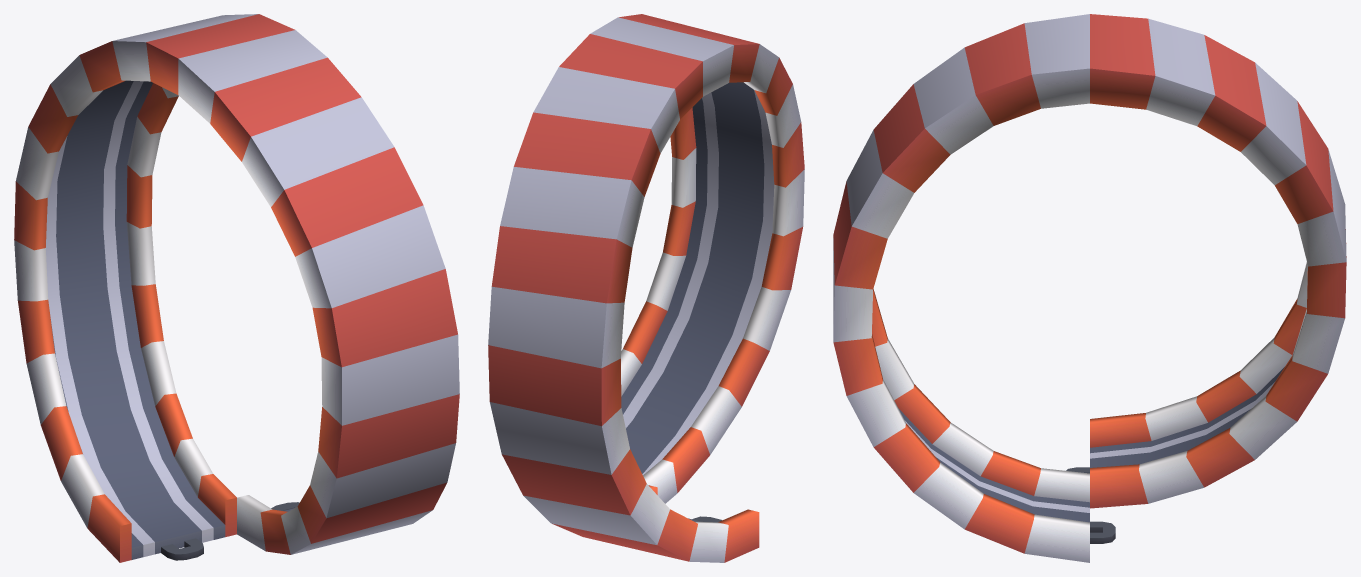
Rendered from track-road-narrow-looping.glb.
3 renders of one model, left to right at view 1: azimuth 30°, elevation 25°; view 2: azimuth 150°, elevation 25°; view 3: azimuth 270°, elevation 25°, orthographic. The views are drawn at different scales.
Visible parts, largest first — view 1: track-road-narrow-looping; view 2: track-road-narrow-looping; view 3: track-road-narrow-looping.
Boxes of the visible parts, left/top/right/bottom form: track-road-narrow-looping: left=14, top=14, right=459, bottom=562; track-road-narrow-looping: left=488, top=14, right=804, bottom=562; track-road-narrow-looping: left=833, top=14, right=1346, bottom=562.
Size of the model in its own units: 2 by 4 by 3.98.
1 material, 1 textured.
